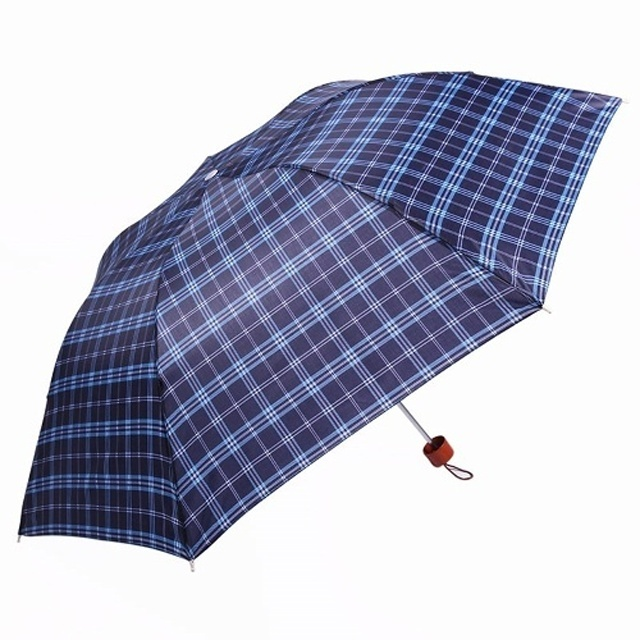umbrella: (15, 68, 624, 573)
